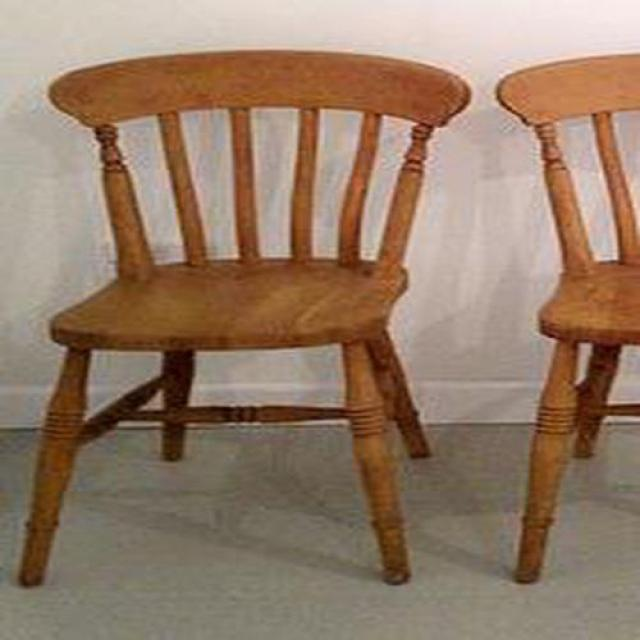chair: (14, 51, 472, 591)
